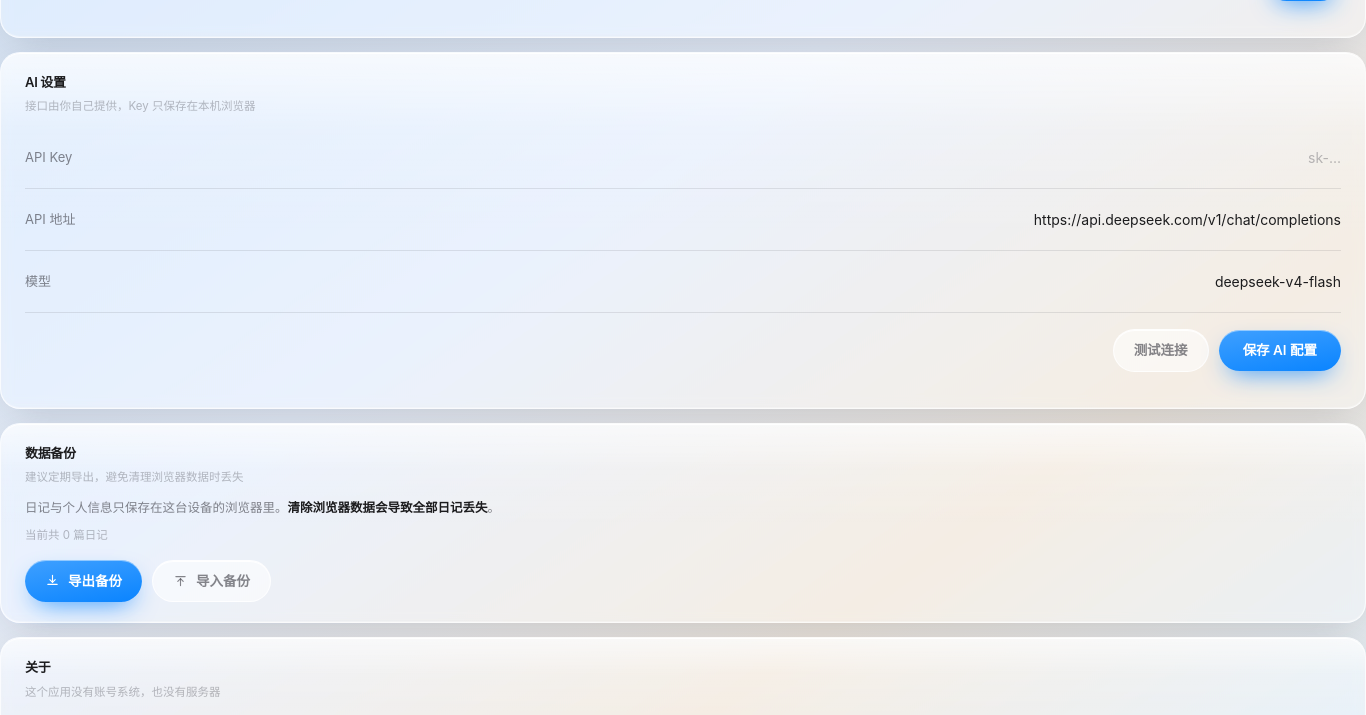
Test: SettingsPage 连接自检 › 测试成功后显示结果
(page scrolled)
Click the button "测试连接" at (1161, 350), box [1113, 329, 1209, 372]
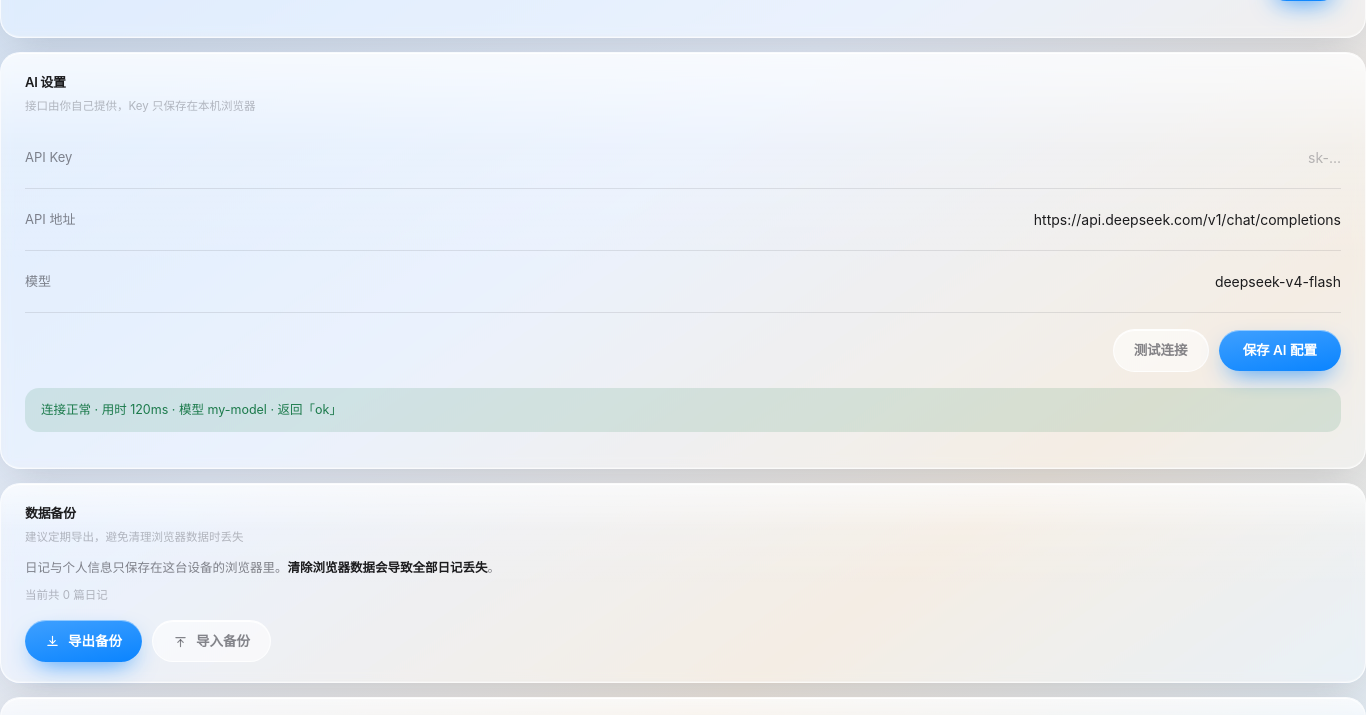
Now the text "连接正常 · 用时 120ms · 模型 my-model · 返回「ok」" is shown, box [25, 388, 1341, 432]
